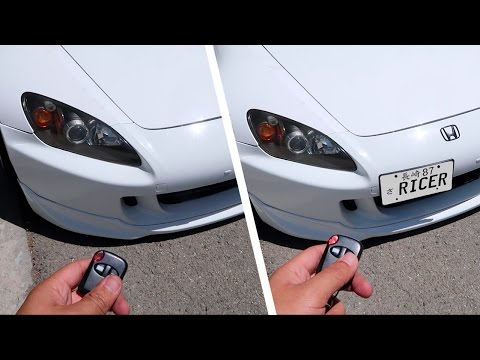license plate: (377, 155, 456, 211)
